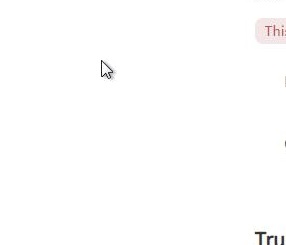cursor: (100, 59, 113, 79)
